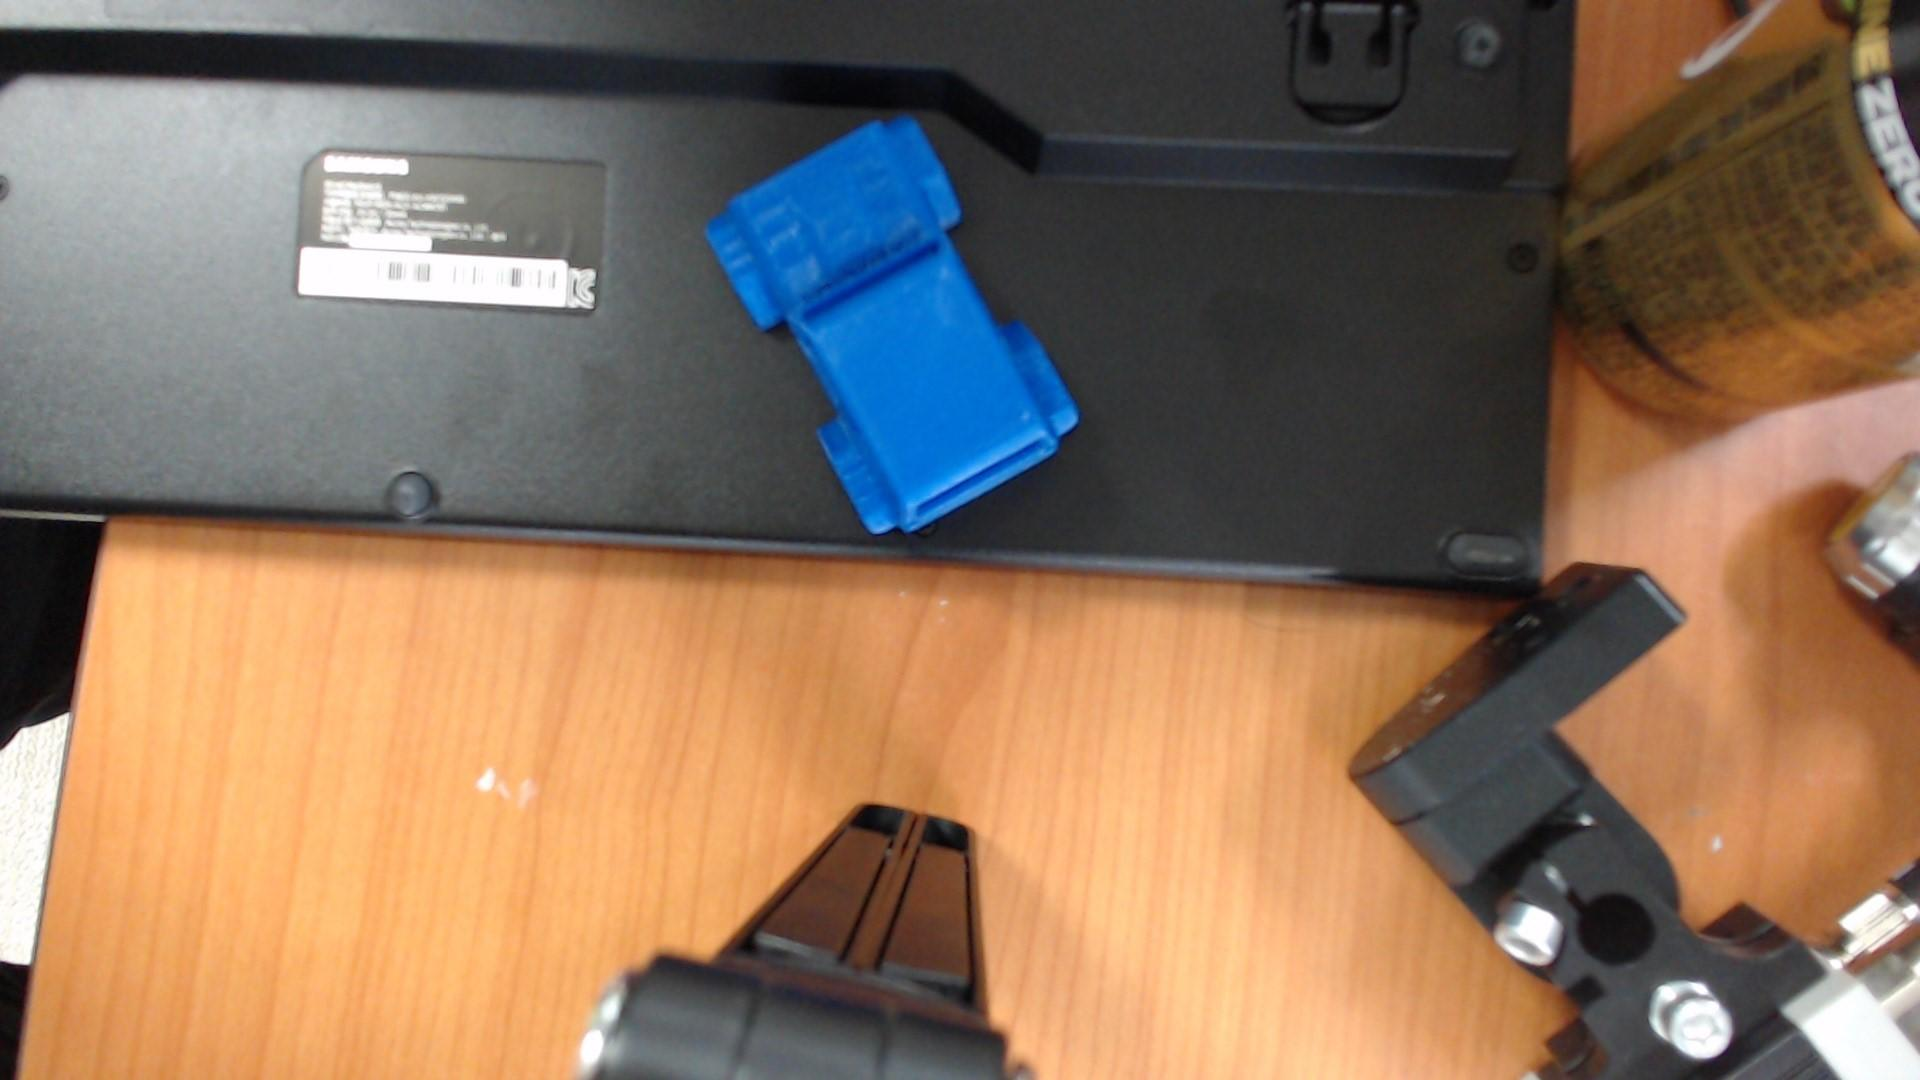Upper_ng: (706, 116, 1078, 532)
